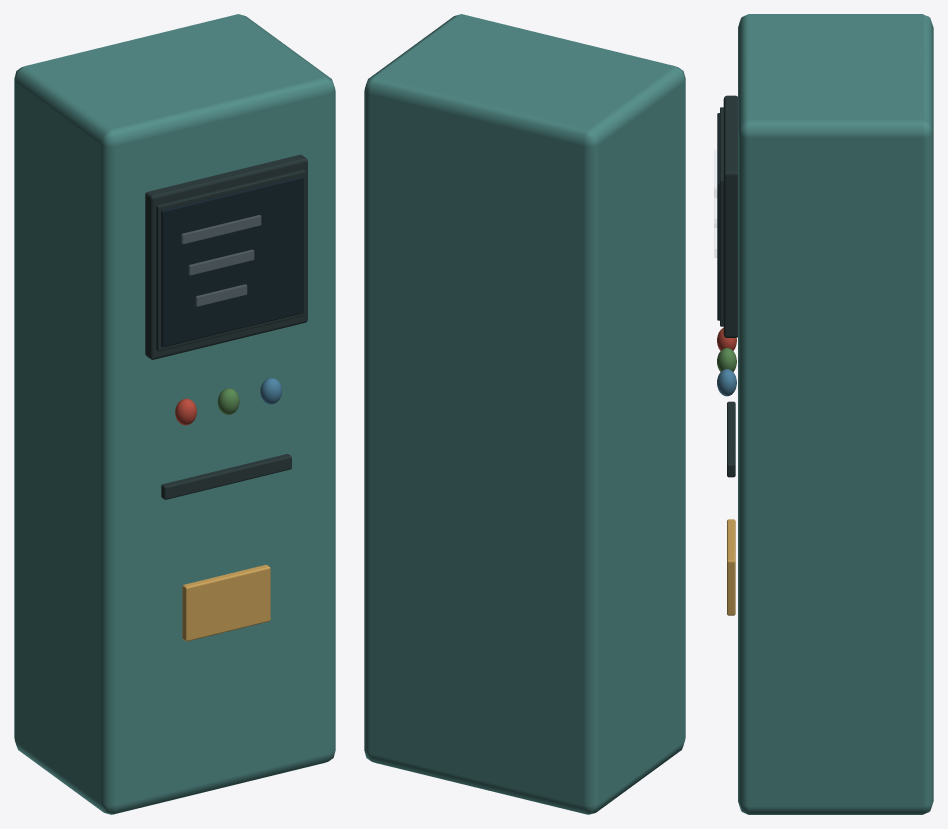
Rendered from wp-borne-de-tickets.glb.
3 views of the same model, side by side, from view 1: azimuth 30°, elevation 25°; view 2: azimuth 150°, elevation 25°; view 3: azimuth 270°, elevation 25° (orthographic).
Visible parts, largest first — view 1: wp-borne-de-tickets; view 2: wp-borne-de-tickets; view 3: wp-borne-de-tickets.
Part boxes in pixels (x1=…): wp-borne-de-tickets: x1=14, y1=14, x2=335, y2=814; wp-borne-de-tickets: x1=364, y1=14, x2=685, y2=814; wp-borne-de-tickets: x1=714, y1=14, x2=933, y2=814.
Size of the model in its own units: 0.5 by 1.4 by 0.4.
